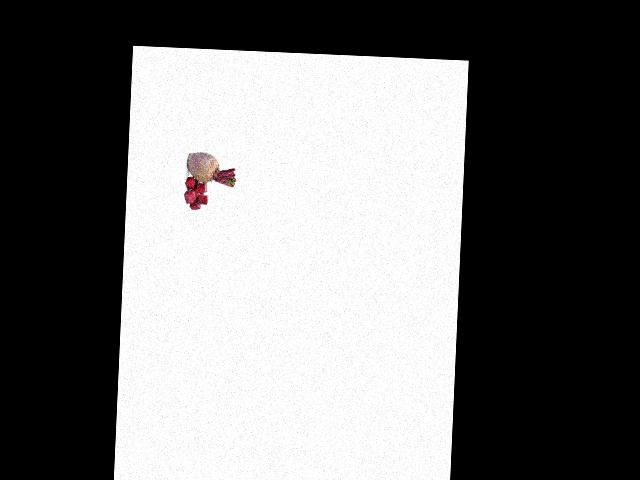beet: (186, 152, 236, 187)
